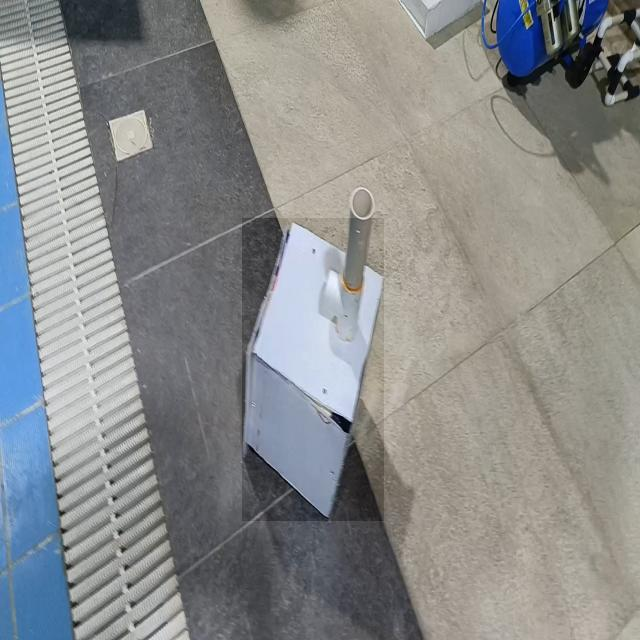Cube: (242, 218, 384, 521)
